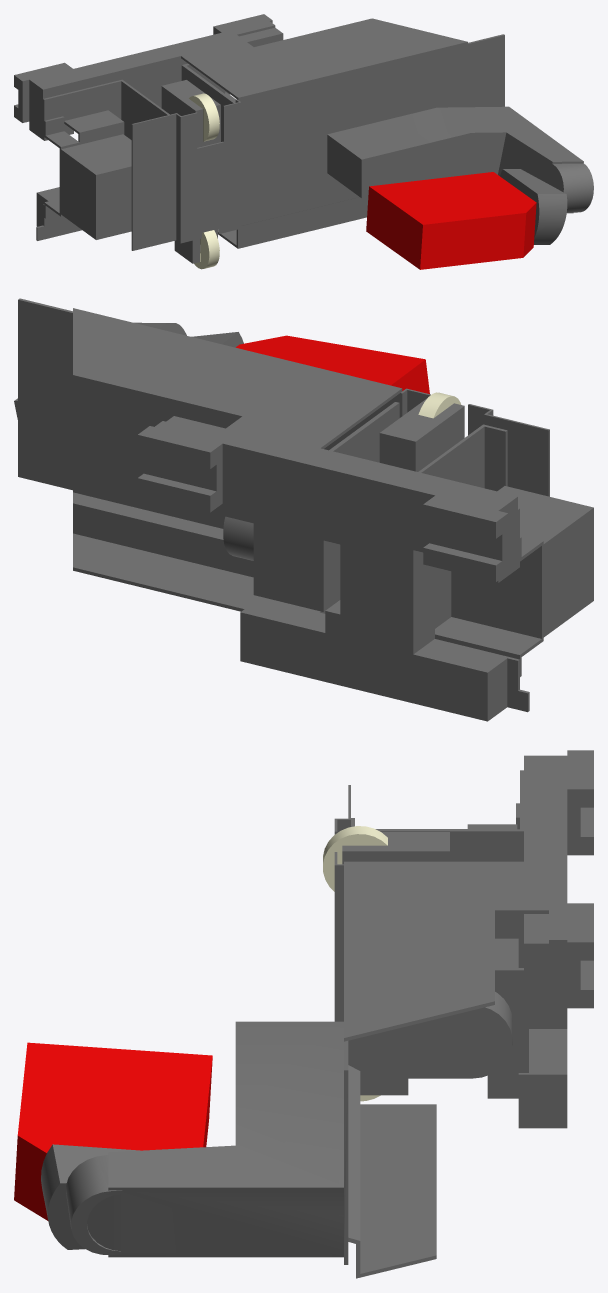
File: autoload_sled.glb
3 renders of one model, top to bottom at view 1: azimuth 30°, elevation 25°; view 2: azimuth 150°, elevation 25°; view 3: azimuth 270°, elevation 25°, orthographic. The views are drawn at different scales.
Parts seen in each view (by area): view 1: autoload_sled; view 2: autoload_sled; view 3: autoload_sled.
Part boxes in pixels (left/top/right/bottom): autoload_sled: left=14, top=14, right=593, bottom=269; autoload_sled: left=14, top=298, right=593, bottom=721; autoload_sled: left=14, top=750, right=593, bottom=1278.
Size of the model in its own units: 0.2809 by 0.1095 by 0.2153.
